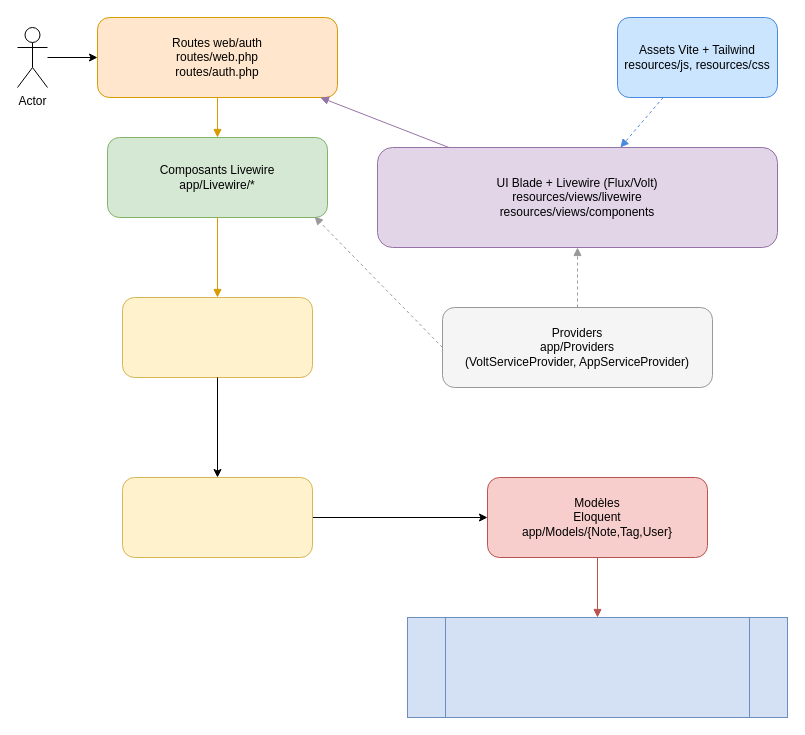
Image size: 805x735. Some labels were removed from this diagram. The centre of each missing label's shape, as x and y in pixels:
API Services/API app/Services/Api/: (x=217, y=517)
Base de données SQLite (database/database.sqlite) Migrations/Seeders: (x=597, y=667)
Contrôleurs app/Http/Controllers/: (x=217, y=337)
